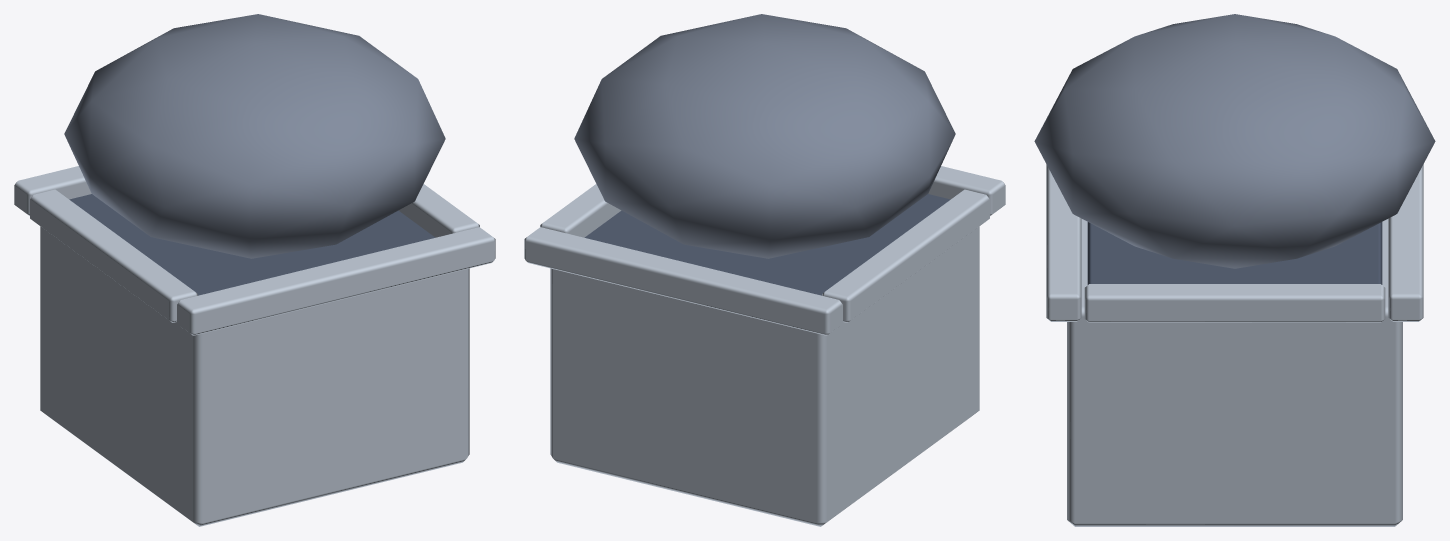
File: 方形花盆-lite.glb
The picture shows the model from 3 angles, left to right: view 1: azimuth 30°, elevation 25°; view 2: azimuth 150°, elevation 25°; view 3: azimuth 270°, elevation 25°; orthographic projection. The views are drawn at different scales.
Parts seen in each view (by area): view 1: garden-planter-square; view 2: garden-planter-square; view 3: garden-planter-square.
Part boxes in pixels (<box>): garden-planter-square: <box>14,14,495,526</box>; garden-planter-square: <box>524,14,1005,526</box>; garden-planter-square: <box>1034,14,1435,526</box>.
Size of the model in its own units: 0.7 by 0.8 by 0.7.
